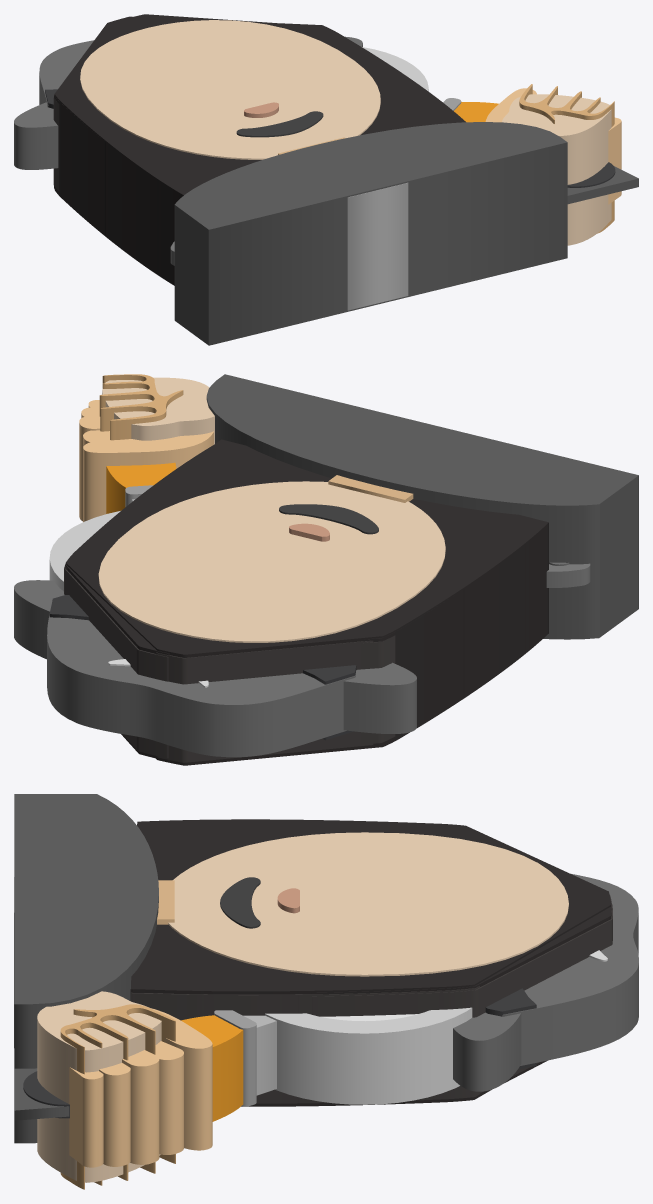
The model's file is emoji_u1f575_1f3fb_200d_2640.glb.
The picture shows the model from 3 angles, top to bottom: view 1: azimuth 30°, elevation 25°; view 2: azimuth 150°, elevation 25°; view 3: azimuth 270°, elevation 25°; orthographic projection. The views are drawn at different scales.
Visible parts, largest first — view 1: emoji_u1f575_1f3fb_200d_2640; view 2: emoji_u1f575_1f3fb_200d_2640; view 3: emoji_u1f575_1f3fb_200d_2640.
Part boxes in pixels (bbox=[...]): emoji_u1f575_1f3fb_200d_2640: bbox=[14, 14, 638, 345]; emoji_u1f575_1f3fb_200d_2640: bbox=[14, 374, 638, 765]; emoji_u1f575_1f3fb_200d_2640: bbox=[14, 794, 638, 1189].
Size of the model in its own units: 0.0328 by 0.0084 by 0.0334.
